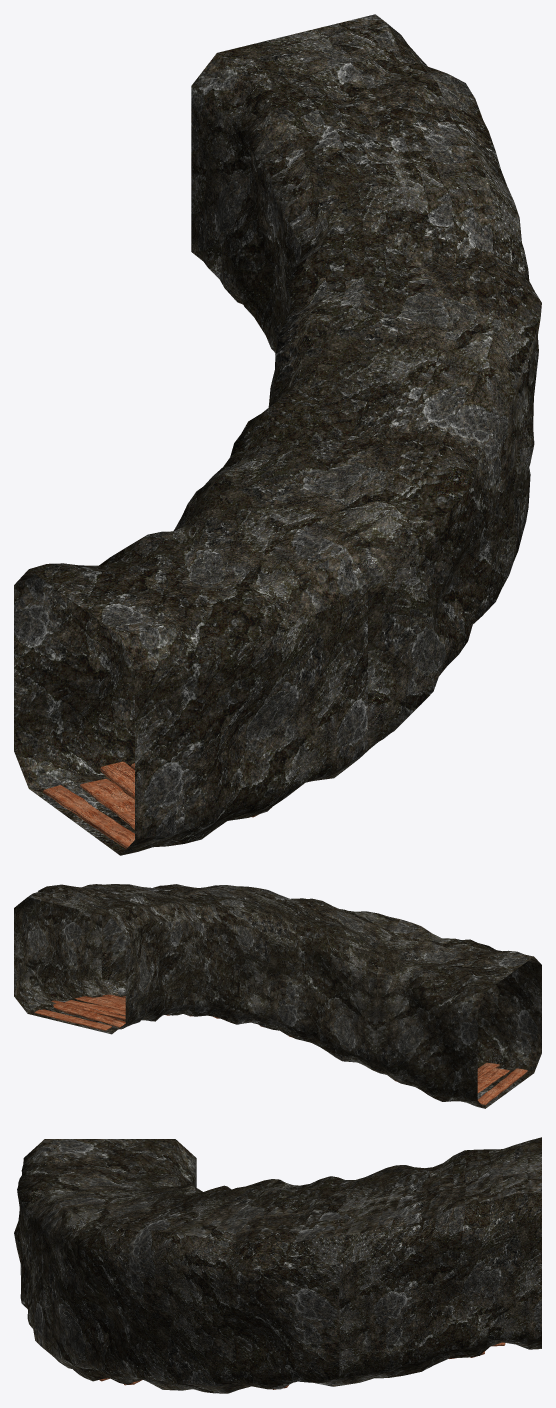
The model's file is Cave_092.fbx.
3 views of the same model, one above another, from view 1: azimuth 30°, elevation 25°; view 2: azimuth 150°, elevation 25°; view 3: azimuth 270°, elevation 25° (orthographic). The views are drawn at different scales.
Parts seen in each view (by area): view 1: Cave.092; view 2: Cave.092; view 3: Cave.092.
Part boxes in pixels (box(x1,y1,x2,y2)): Cave.092: box(14, 14, 541, 855); Cave.092: box(14, 884, 541, 1108); Cave.092: box(14, 1137, 541, 1393).
Bounding box in the file's own units: 913 × 608 × 917.
